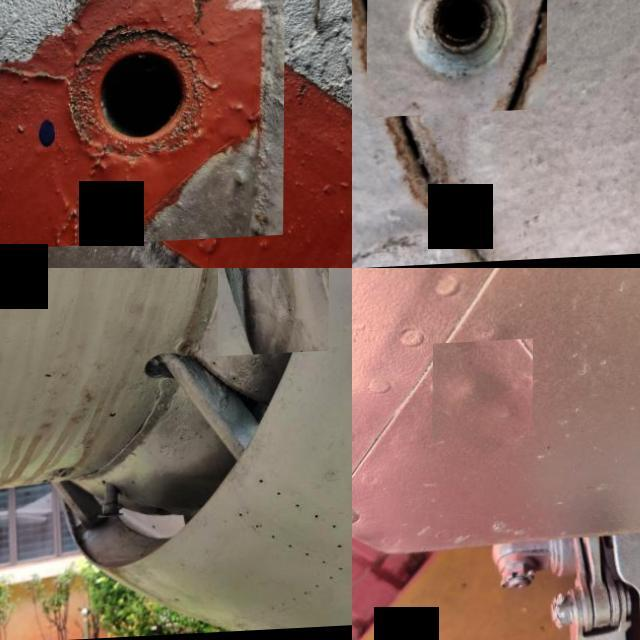Dent: (217, 268, 330, 359), (433, 342, 533, 444)
Missing_Fastener: (0, 0, 285, 251), (367, 0, 548, 120)
